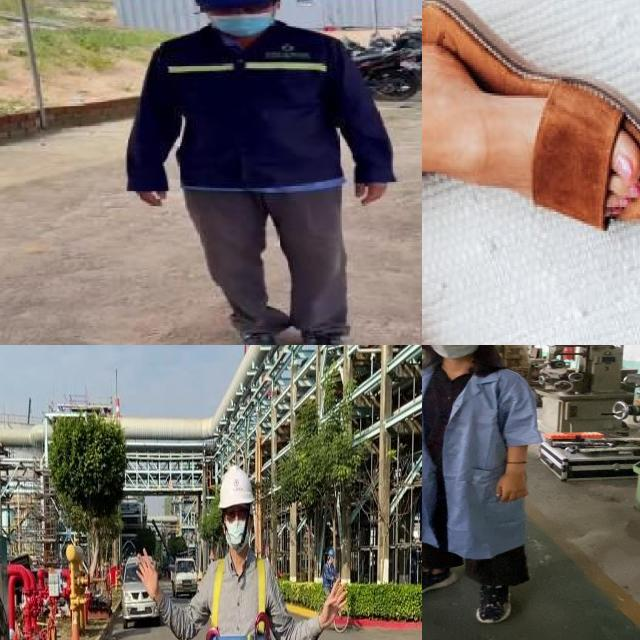Harness: (207, 559, 273, 640)
Sandals: (422, 0, 640, 230)
face_mask: (202, 0, 278, 36), (422, 345, 484, 359)
hand_noglove: (486, 471, 532, 507), (349, 174, 394, 205), (128, 182, 174, 211)
person: (125, 0, 399, 345), (422, 345, 553, 629)
shoes: (462, 571, 522, 629), (222, 309, 288, 345), (422, 564, 466, 605), (293, 323, 355, 345)
